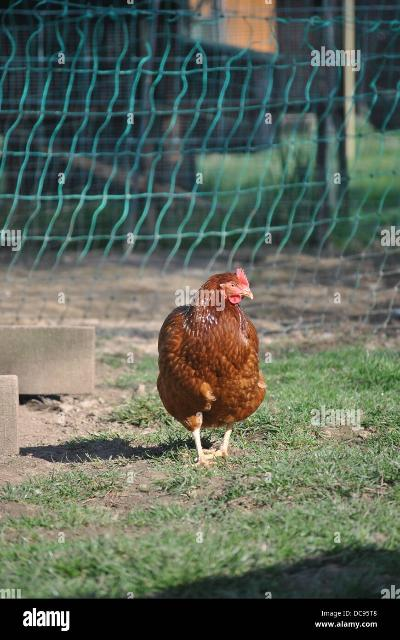Chicken: (160, 270, 266, 465)
